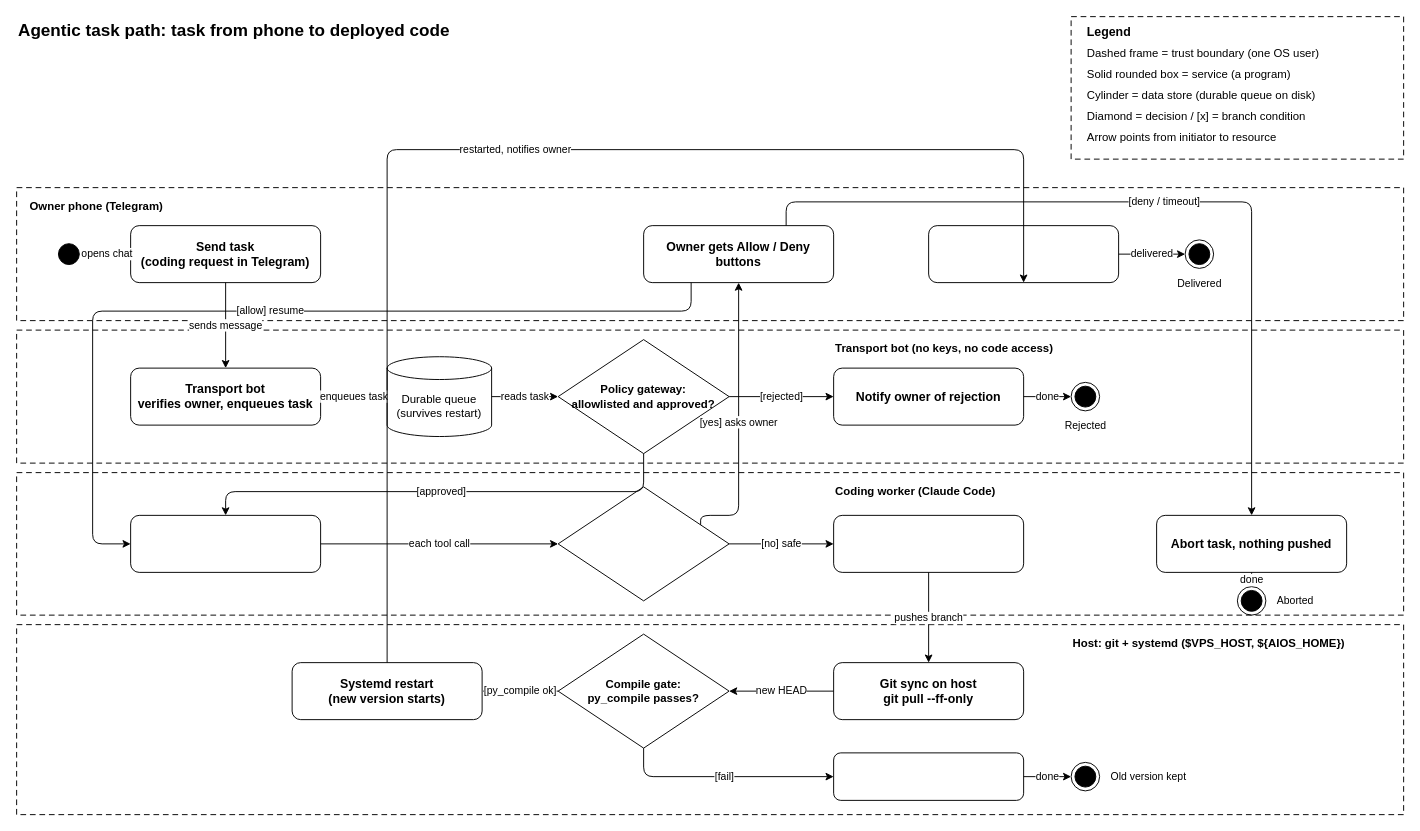
Image size: 1420x831. Some labels were removed from this diagram. Each missing label, with the centre of its shape:
"Coding worker claims task, edits code, runs tests" belongs at point (225, 543).
"Commit and push (scoped repo token)" belongs at point (928, 543).
"Keep old version, alert owner" belongs at point (928, 776).
"Mid-session gate: risky tool call?" belongs at point (643, 543).
"Owner gets result summary" belongs at point (1023, 254).
